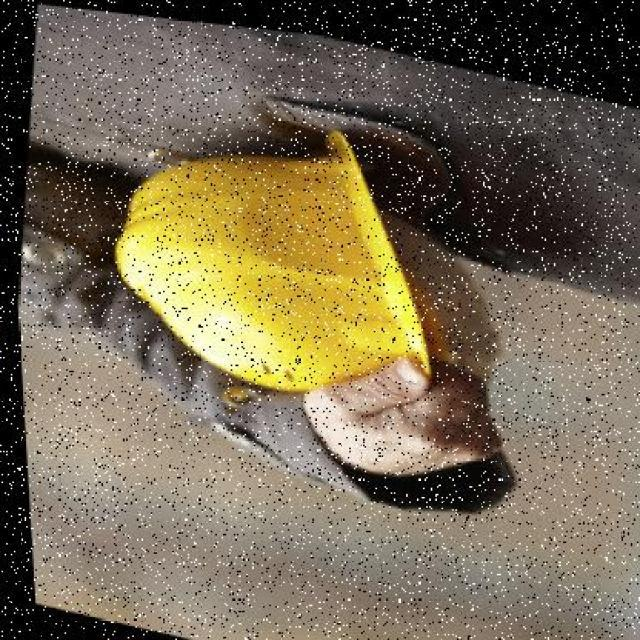helmet: (85, 71, 461, 435)
